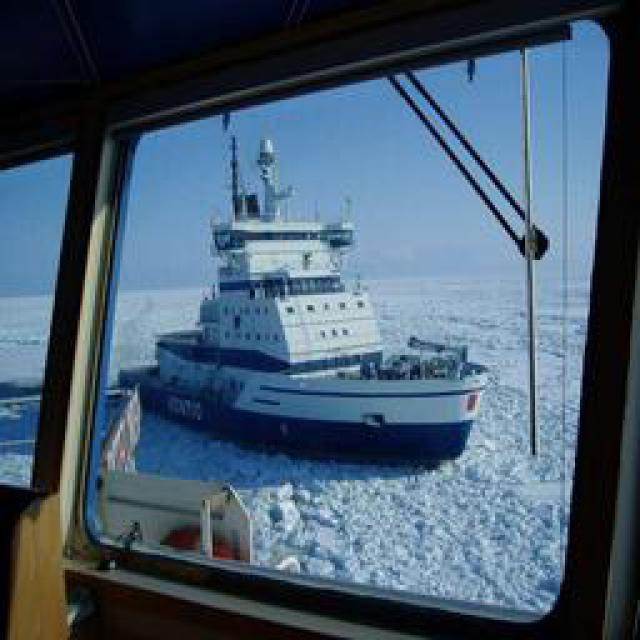Ship: (146, 109, 494, 464)
